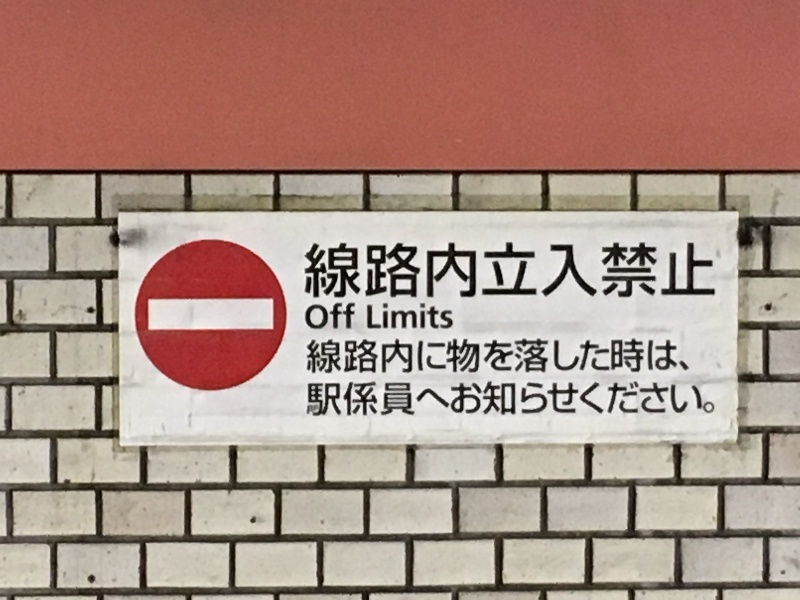text: (321, 242, 336, 301), (337, 242, 352, 301), (353, 242, 368, 301), (369, 242, 384, 301), (385, 242, 400, 301), (401, 242, 416, 301), (417, 242, 432, 301), (433, 242, 448, 301), (449, 242, 464, 301), (465, 242, 480, 301), (481, 242, 496, 301), (497, 242, 512, 301), (513, 242, 528, 301), (529, 242, 544, 301), (545, 242, 560, 301), (561, 242, 576, 301), (577, 242, 592, 301), (593, 242, 608, 301), (609, 242, 624, 301), (625, 242, 640, 301), (641, 242, 656, 301), (657, 242, 672, 301), (673, 242, 688, 301), (689, 242, 704, 301), (306, 242, 320, 301), (705, 242, 717, 301), (321, 338, 336, 375), (337, 338, 352, 375), (353, 338, 368, 375), (369, 338, 384, 375), (385, 338, 400, 375), (401, 338, 416, 375), (417, 338, 432, 375), (433, 338, 448, 375), (449, 338, 464, 375), (465, 338, 480, 375), (481, 338, 496, 375), (497, 338, 512, 375), (513, 338, 528, 375), (529, 338, 544, 375), (545, 338, 560, 375), (561, 338, 576, 375), (577, 338, 592, 375), (593, 338, 608, 375), (609, 338, 624, 375), (625, 338, 640, 375), (641, 338, 656, 375), (657, 338, 672, 375), (673, 338, 688, 375), (321, 383, 336, 418), (337, 383, 352, 418), (353, 383, 368, 418), (369, 383, 384, 418), (385, 383, 400, 418), (401, 383, 416, 418), (417, 383, 432, 418), (433, 383, 448, 418), (449, 383, 464, 418), (465, 383, 480, 418), (481, 383, 496, 418), (497, 383, 512, 418), (513, 383, 528, 418), (529, 383, 544, 418), (545, 383, 560, 418), (561, 383, 576, 418), (577, 383, 592, 418), (593, 383, 608, 418), (609, 383, 624, 418), (625, 383, 640, 418), (641, 383, 656, 418), (657, 383, 672, 418), (673, 383, 688, 418), (689, 383, 704, 418), (307, 338, 320, 375), (308, 383, 320, 418), (705, 383, 717, 418), (305, 303, 320, 331), (321, 303, 336, 331), (337, 303, 352, 331), (369, 303, 384, 330), (385, 303, 400, 330), (401, 303, 416, 330), (417, 303, 432, 330), (433, 303, 448, 330), (449, 303, 453, 330), (353, 303, 356, 331), (689, 338, 690, 375), (367, 303, 368, 330)
